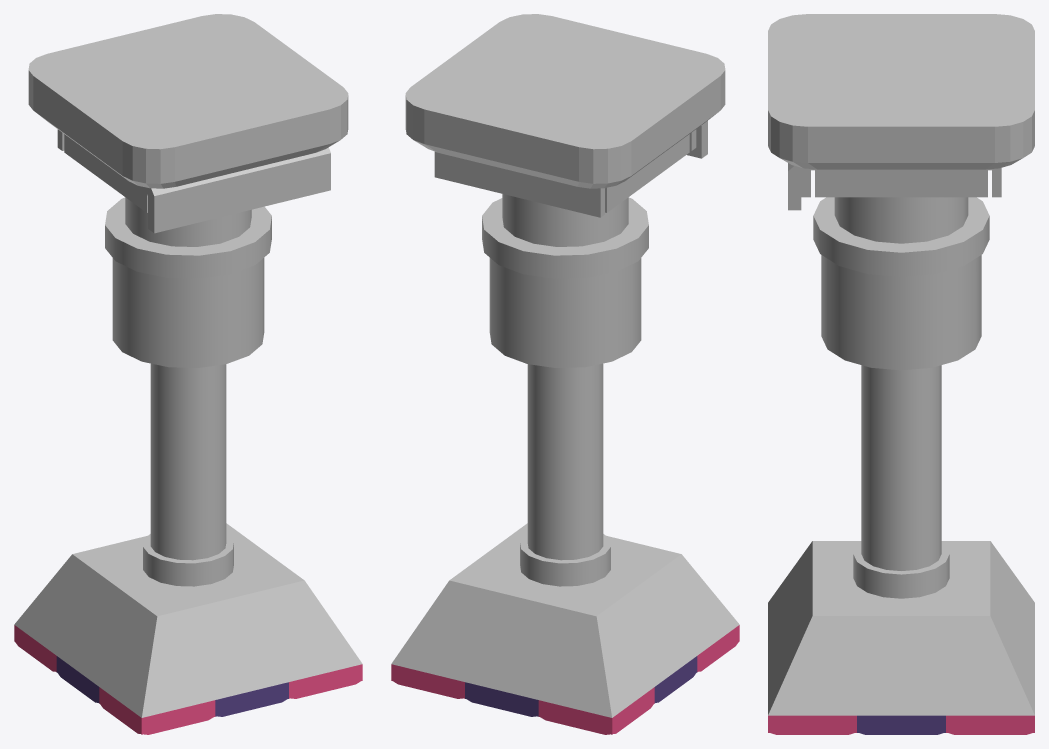
File: glassplatform_pumber.fbx
3 renders of one model, left to right at view 1: azimuth 30°, elevation 25°; view 2: azimuth 150°, elevation 25°; view 3: azimuth 270°, elevation 25°, orthographic. The views are drawn at different scales.
Visible parts, largest first — view 1: Cylinder.039, Cube.014, Cylinder.031, Vert.015, Cube.025, Cylinder.064, Cube.015; view 2: Cylinder.039, Cube.014, Cylinder.031, Cube.025, Cylinder.064, Cube.015; view 3: Cylinder.039, Cube.014, Cylinder.031, Cylinder.064, Cube.015, Cube.025, Vert.015.
Part boxes in pixels (box(x1,y1,x2,y2)): Cylinder.039: box(14, 363, 362, 717); Cube.014: box(28, 14, 348, 188); Cylinder.031: box(112, 197, 264, 367); Vert.015: box(144, 147, 330, 233); Cube.025: box(14, 625, 362, 734); Cylinder.064: box(105, 197, 271, 278); Cube.015: box(57, 129, 147, 212); Cylinder.039: box(391, 363, 739, 717); Cube.014: box(405, 14, 725, 188); Cylinder.031: box(489, 194, 641, 367); Cube.025: box(391, 625, 739, 734); Cylinder.064: box(482, 197, 648, 278); Cube.015: box(434, 129, 696, 217); Cylinder.039: box(768, 365, 1034, 715); Cube.014: box(768, 14, 1034, 169); Cylinder.031: box(821, 197, 981, 370); Cylinder.064: box(813, 197, 989, 276); Cube.015: box(801, 168, 1001, 197); Cube.025: box(768, 715, 1034, 734); Vert.015: box(788, 163, 808, 210).
Size of the model in its own units: 300 by 755 by 300.
